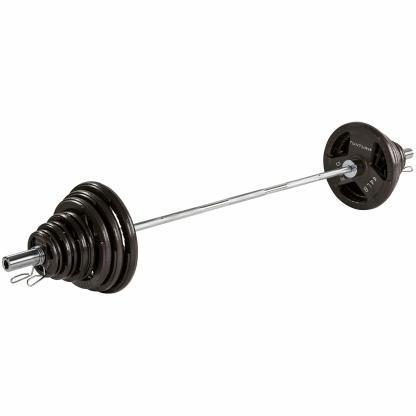Barbell: (3, 252, 19, 279)
